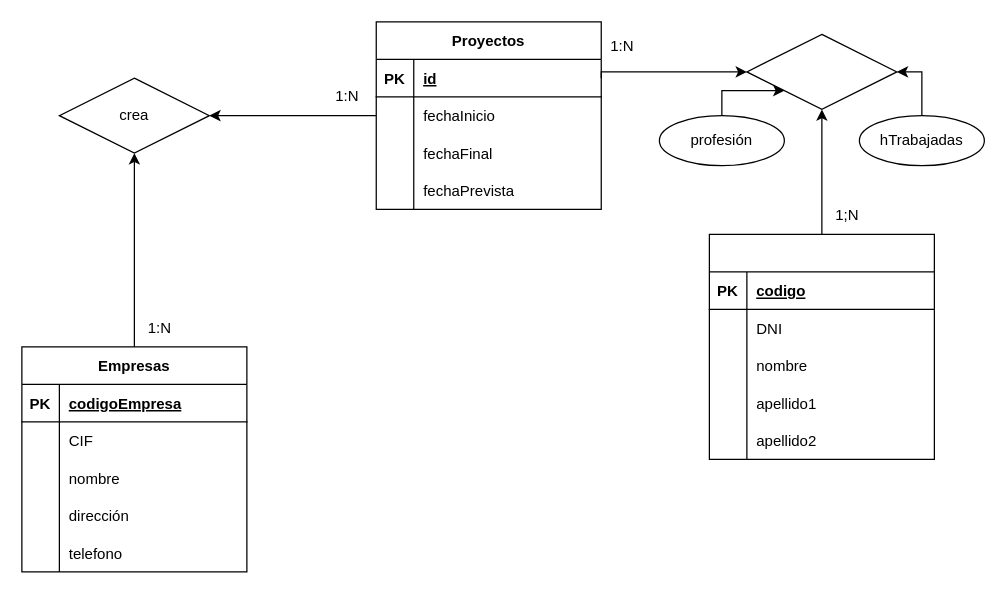
Some shapes in this 1006 by 594 pixel diagram are drawn without their labels. Each missing label, with the box of its shape:
hace: (746, 33, 897, 109)
Trabajadores: (708, 233, 934, 459)
